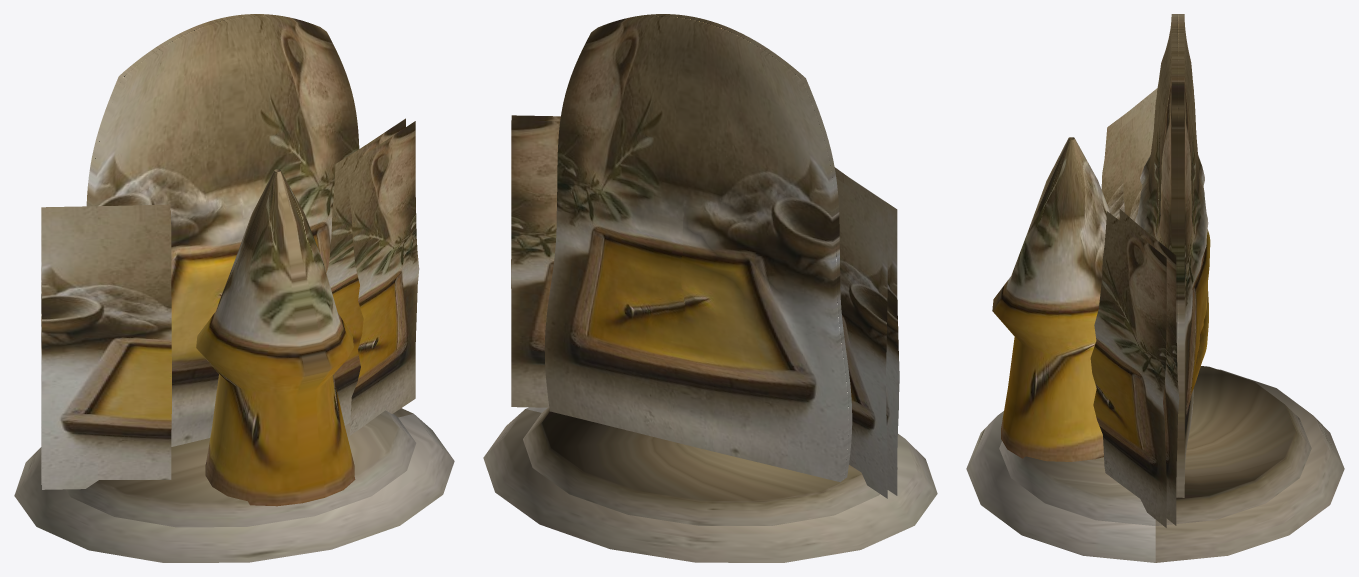
File: held-together-12.glb
3 renders of one model, left to right at view 1: azimuth 30°, elevation 25°; view 2: azimuth 150°, elevation 25°; view 3: azimuth 270°, elevation 25°, orthographic. The views are drawn at different scales.
Visible parts, largest first — view 1: PaintingSculptureMonument; view 2: PaintingSculptureMonument; view 3: PaintingSculptureMonument.
Part boxes in pixels (left/top/right/bottom): PaintingSculptureMonument: left=14, top=14, right=454, bottom=562; PaintingSculptureMonument: left=483, top=14, right=937, bottom=562; PaintingSculptureMonument: left=966, top=14, right=1344, bottom=562.
Size of the model in its own units: 2.76 by 2.99 by 2.35.
1 material, 1 textured.
